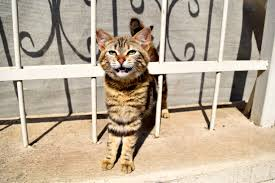cat: (95, 27, 170, 175)
